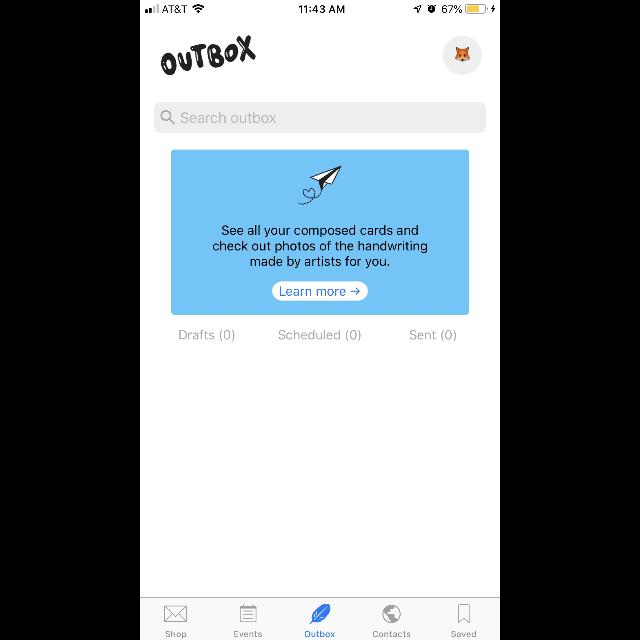icon: (165, 606, 187, 622), (240, 604, 256, 622), (160, 110, 176, 126), (458, 604, 469, 624)
image: (162, 35, 256, 75), (298, 166, 342, 206), (442, 36, 482, 76), (310, 604, 330, 624), (382, 605, 400, 623)
input: (154, 102, 486, 134)
text: (213, 225, 427, 269), (182, 112, 276, 124), (279, 330, 361, 342), (180, 330, 234, 342), (410, 330, 456, 342), (305, 630, 335, 638), (374, 631, 411, 637), (234, 631, 262, 637), (166, 631, 187, 639), (452, 631, 476, 637)
textbutton: (272, 282, 368, 300)
uppertaskbar: (140, 0, 500, 14)
